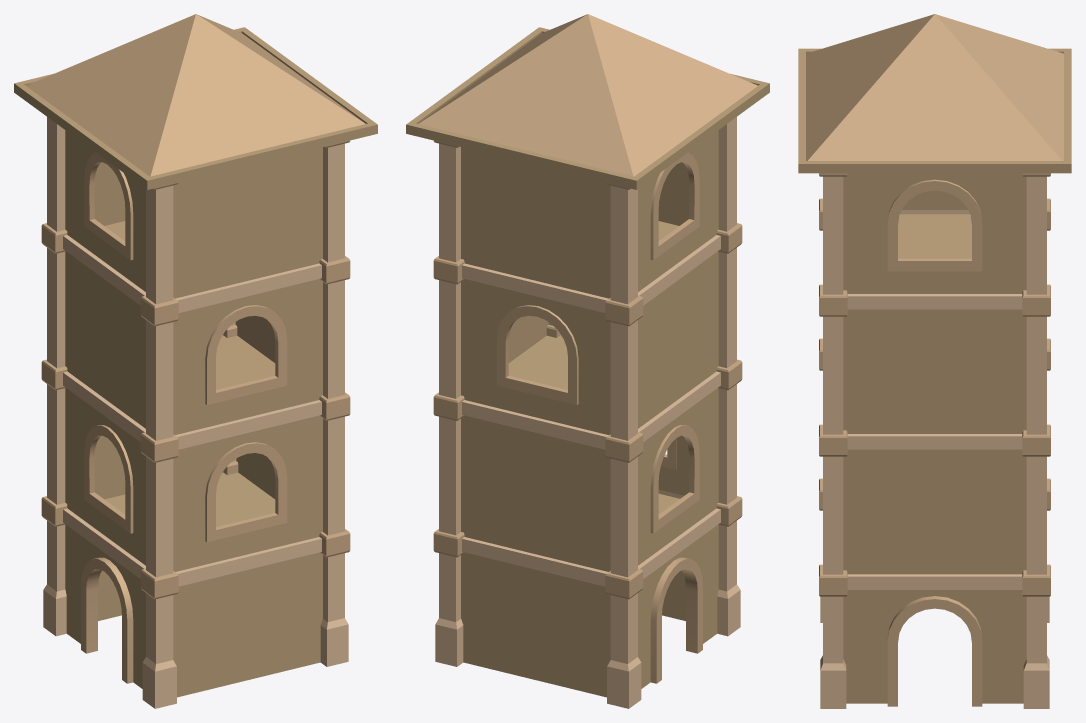
Rendered from Tower.fbx.
3 renders of one model, left to right at view 1: azimuth 30°, elevation 25°; view 2: azimuth 150°, elevation 25°; view 3: azimuth 270°, elevation 25°, orthographic. The views are drawn at different scales.
Parts seen in each view (by area): view 1: Cube.017; view 2: Cube.017; view 3: Cube.017.
Part boxes in pixels (bbox=[...]): Cube.017: bbox=[14, 14, 377, 708]; Cube.017: bbox=[406, 14, 769, 708]; Cube.017: bbox=[798, 14, 1071, 708].
Size of the model in its own units: 524 by 1370 by 524.
